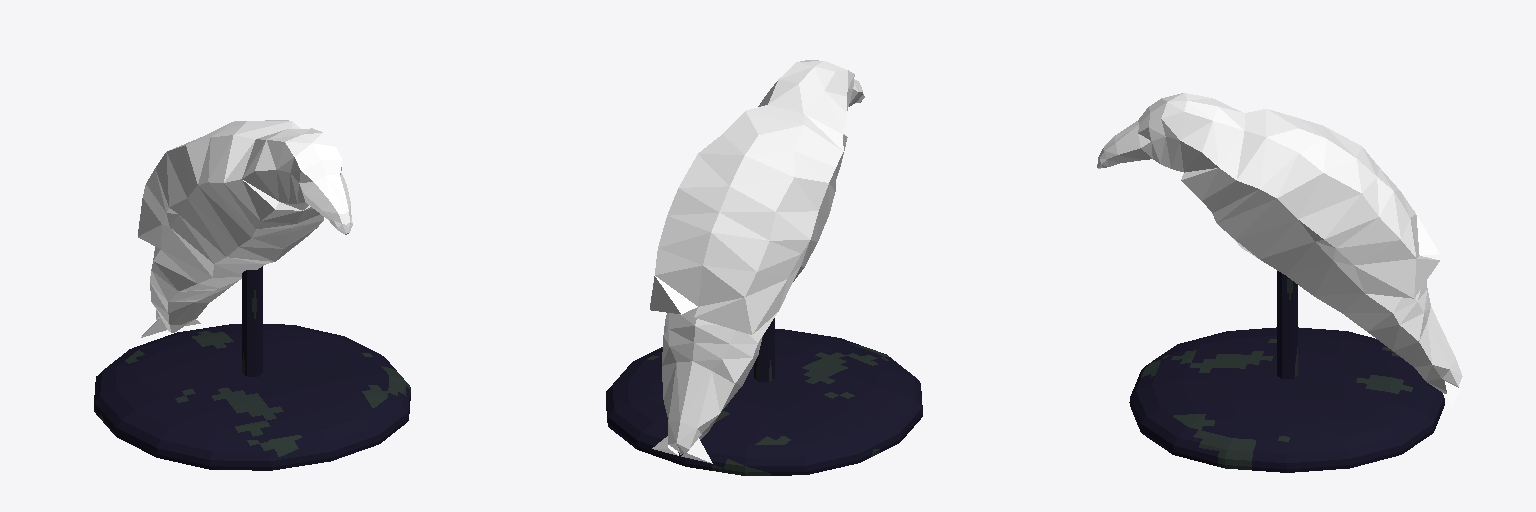
The picture shows the model from 3 angles: view 1: azimuth 30°, elevation 25°; view 2: azimuth 150°, elevation 25°; view 3: azimuth 270°, elevation 25°; orthographic projection.
Parts seen in each view (by area): view 1: Base_of_Statue, Raven_Statue, Base_Stem_of_Statue; view 2: Raven_Statue, Base_of_Statue, Base_Stem_of_Statue; view 3: Raven_Statue, Base_of_Statue, Base_Stem_of_Statue.
Part boxes in pixels (x1,y1,x2,y2): Base_of_Statue: (94,324,410,470); Raven_Statue: (138,120,352,337); Base_Stem_of_Statue: (242,266,262,376); Raven_Statue: (650,60,864,463); Base_of_Statue: (606,329,922,475); Base_Stem_of_Statue: (754,318,774,381); Raven_Statue: (1097,93,1462,407); Base_of_Statue: (1129,327,1444,472); Base_Stem_of_Statue: (1277,271,1297,378).
Bounding box in the file's own units: 0.9167 × 0.995 × 1.06.
Materials: 2 (1 with a texture image).